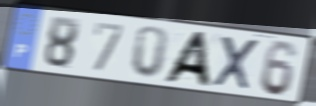0: (130, 25, 170, 81)
6: (258, 38, 300, 98)
7: (91, 20, 126, 74)
8: (43, 15, 81, 70)
A: (159, 30, 214, 89)
X: (211, 33, 262, 93)
